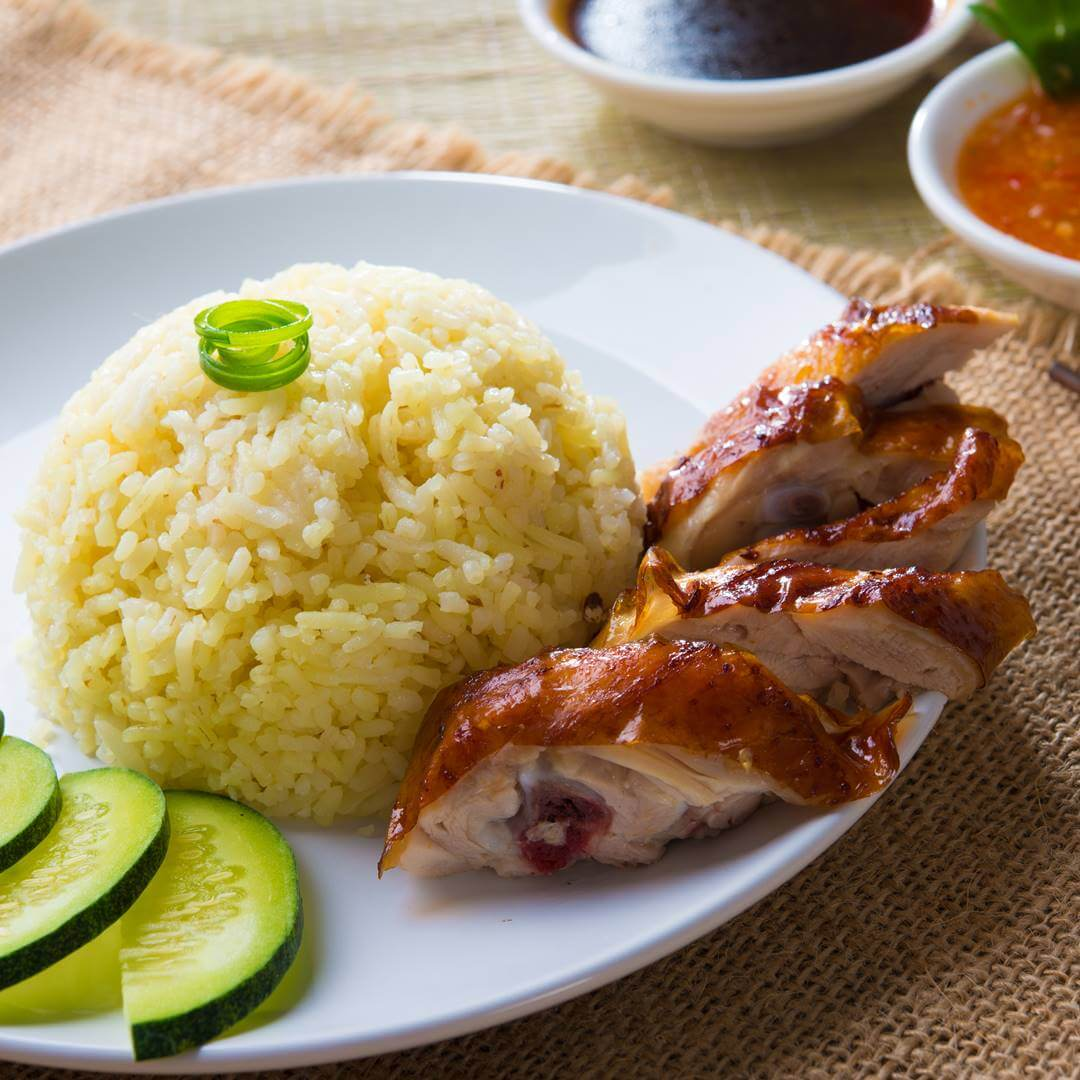daging: (654, 469, 936, 734)
makanan_berpati: (77, 447, 513, 647)
